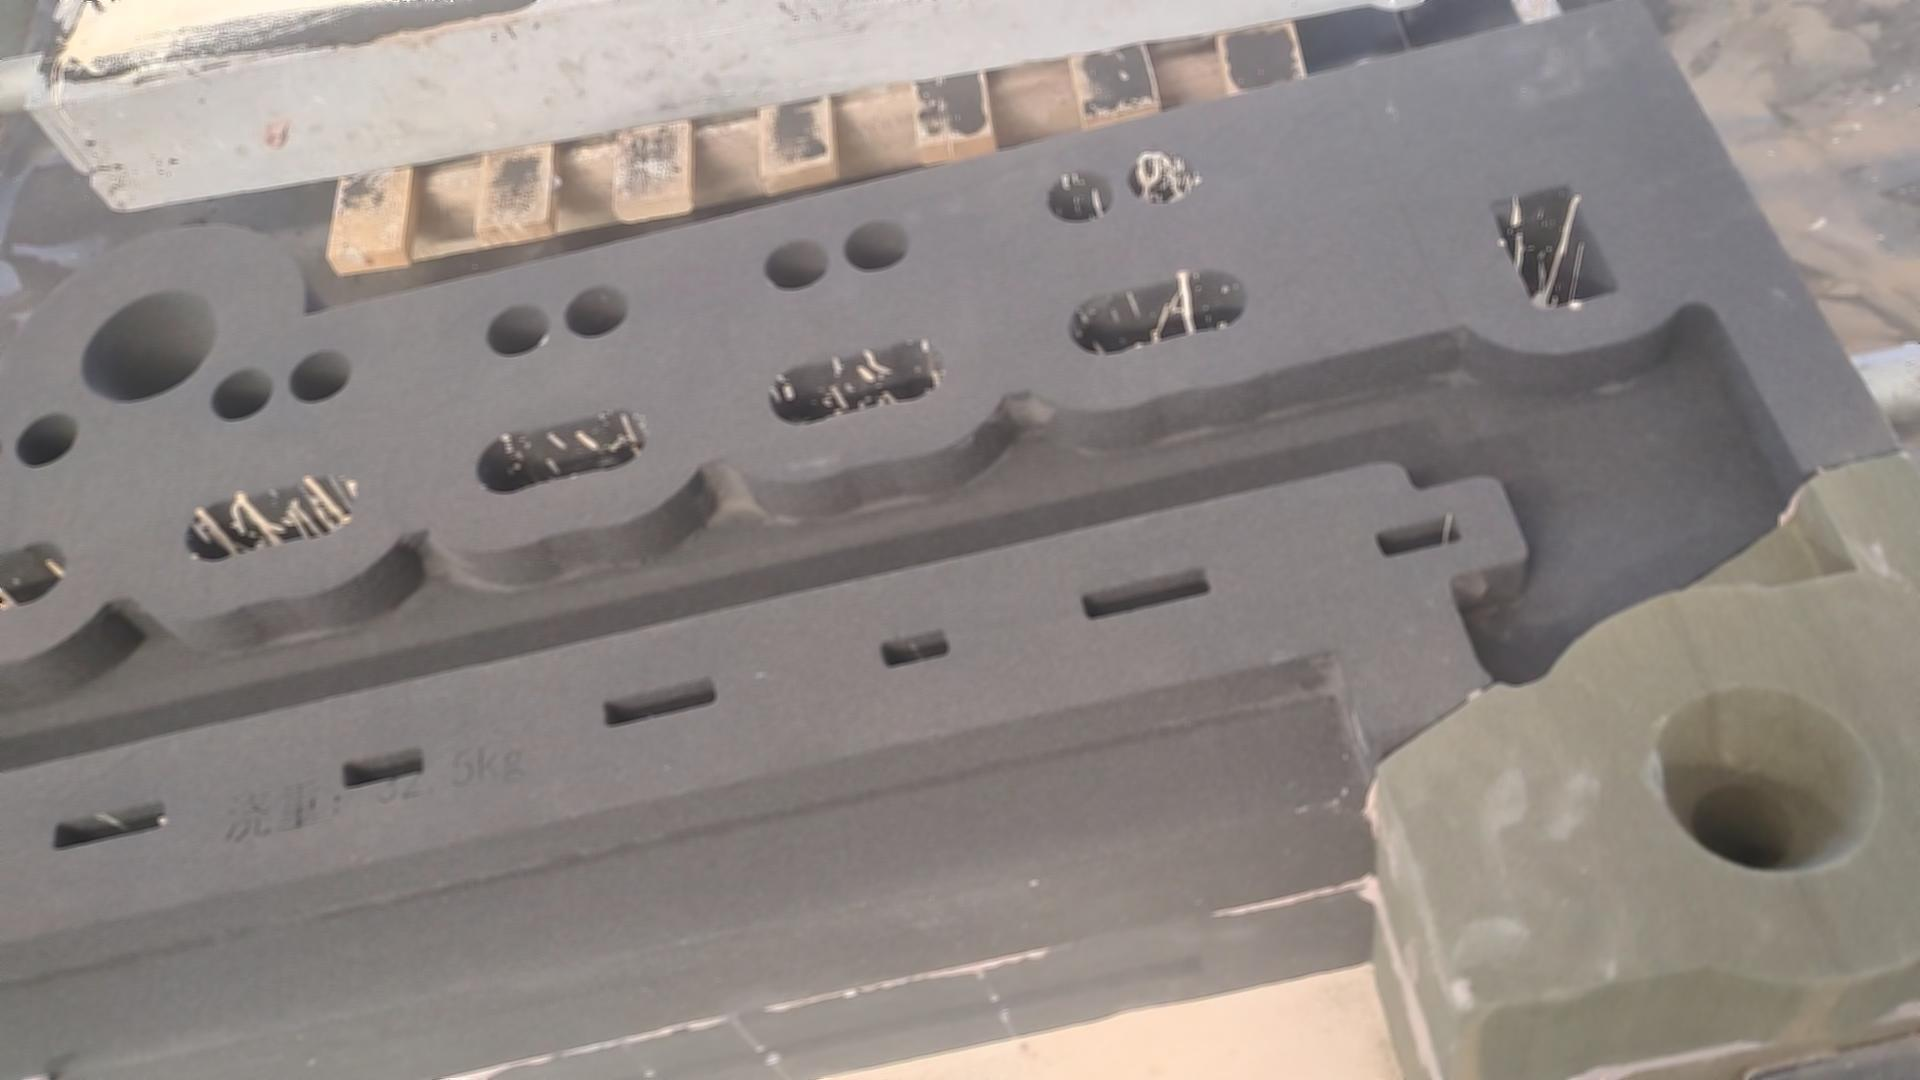pouring hole: (1650, 684, 1880, 877), (78, 289, 220, 404)
